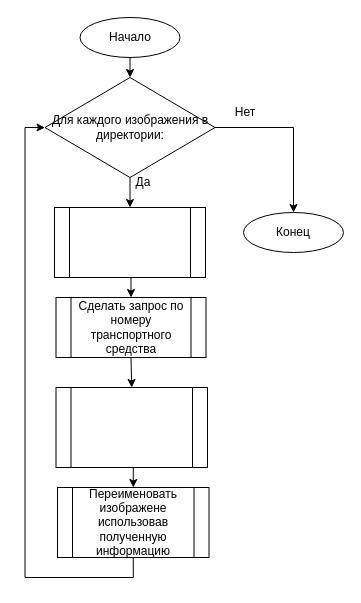
The diagram is 361 pixels wide and 603 high, and some of its shapes have lost their labels. Here are the shapes that lost their labels. From the top down, the centre of each, then its label:
(130,242): Считать номер транспортного средства из названия изображения
(131,427): Получить марку, модель и год выпуска транспортного средства
